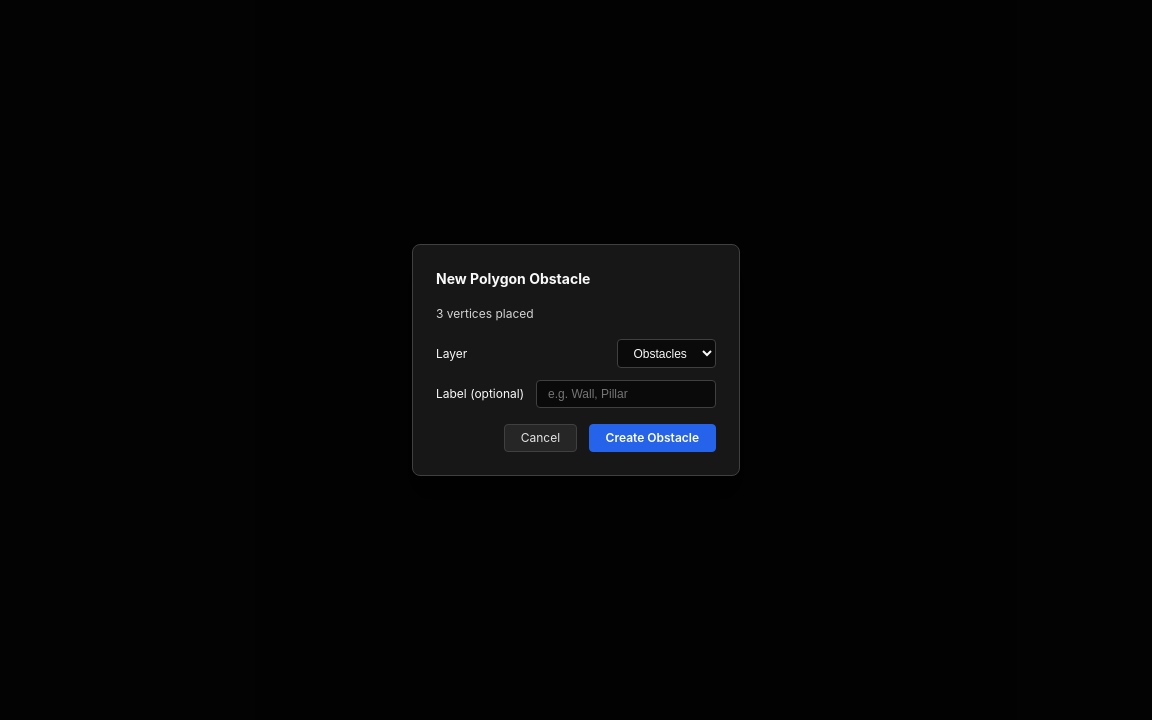
Test: authoritative polygon creation › keeps disconnected saves local to the dialog, not the renderer or transport
This screenshot has width=1152, height=720.
Click the button "Create Obstacle" at {"x": 652, "y": 438}, box top-left (589, 424), bottom-right (716, 452)
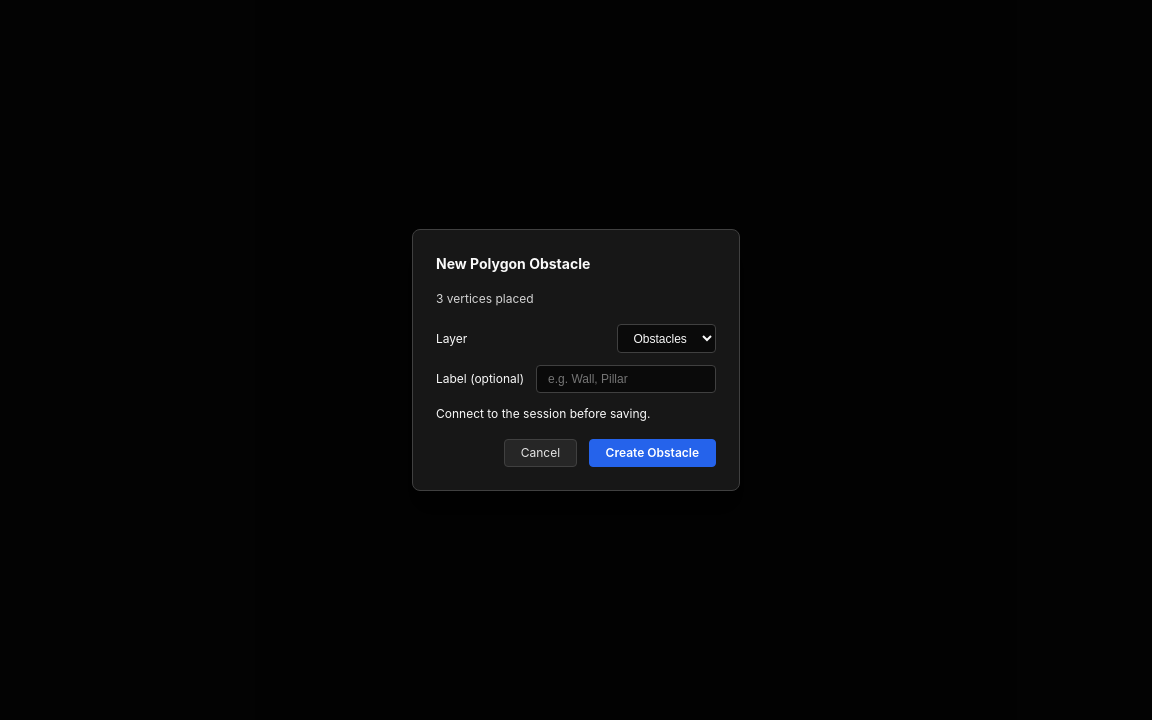
Expected: the message shows "Connect to the session", top-left (436, 406), bottom-right (650, 420)
